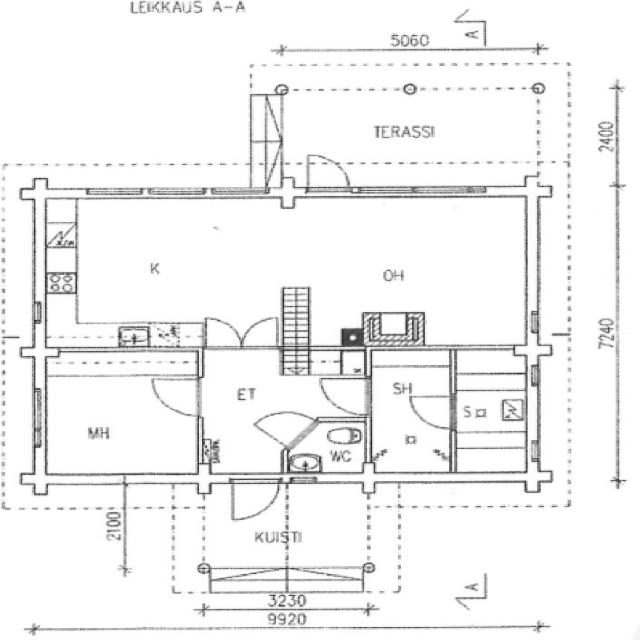door: (226, 475, 284, 524), (300, 150, 354, 196), (316, 375, 372, 418), (148, 376, 203, 418), (406, 392, 457, 430), (198, 315, 248, 350), (236, 316, 283, 350)
window: (355, 184, 416, 200), (28, 296, 46, 329)
zone: (271, 194, 536, 346), (37, 195, 271, 344), (36, 373, 203, 479), (366, 355, 454, 477), (451, 347, 529, 476), (283, 415, 370, 477)
